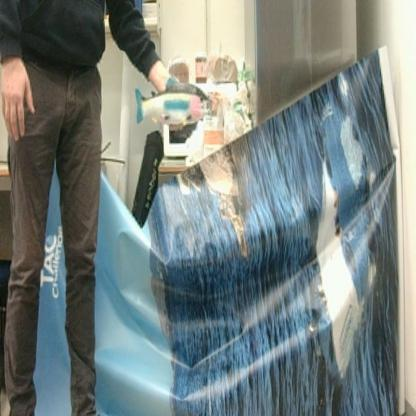rubberfish: (135, 76, 209, 128)
